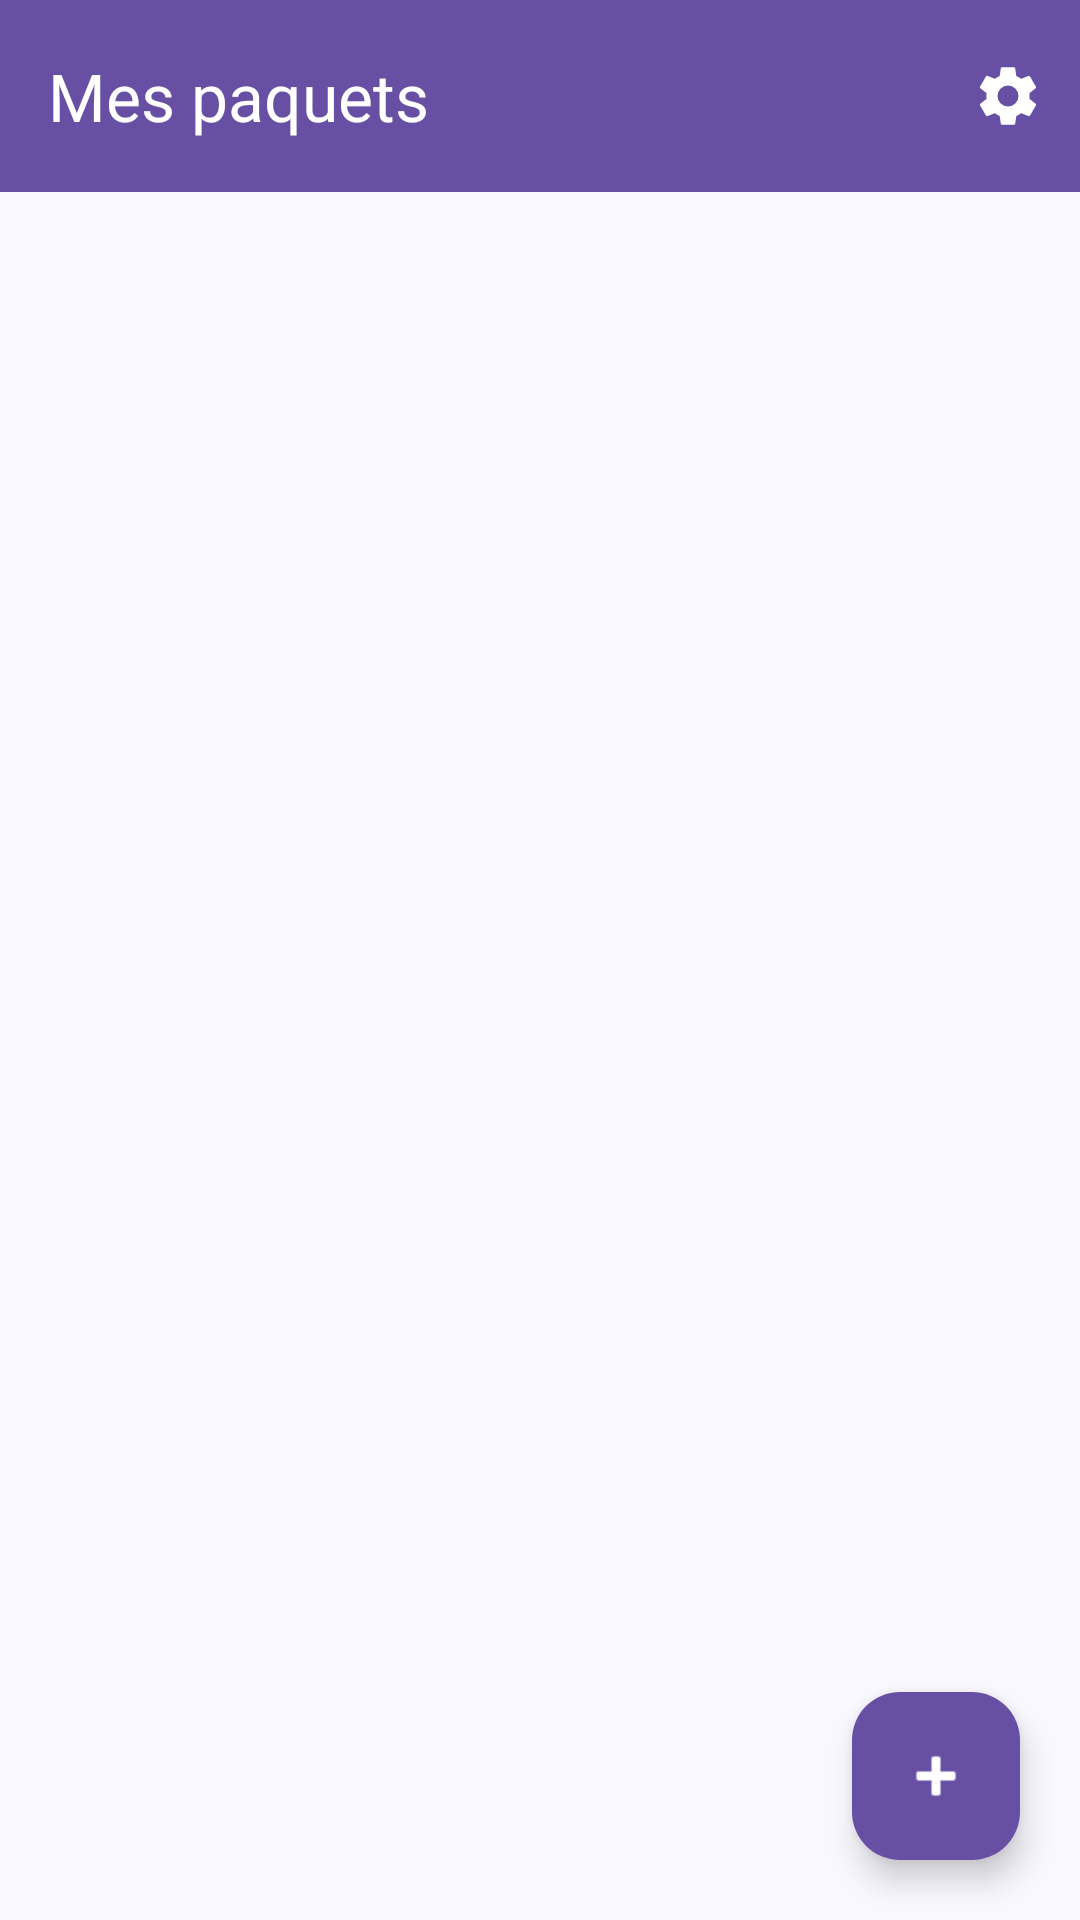

Where to tap for icons on this 1080x1920 app screen, as point (x, y):
Nouveau paquet: point (936, 1776)
